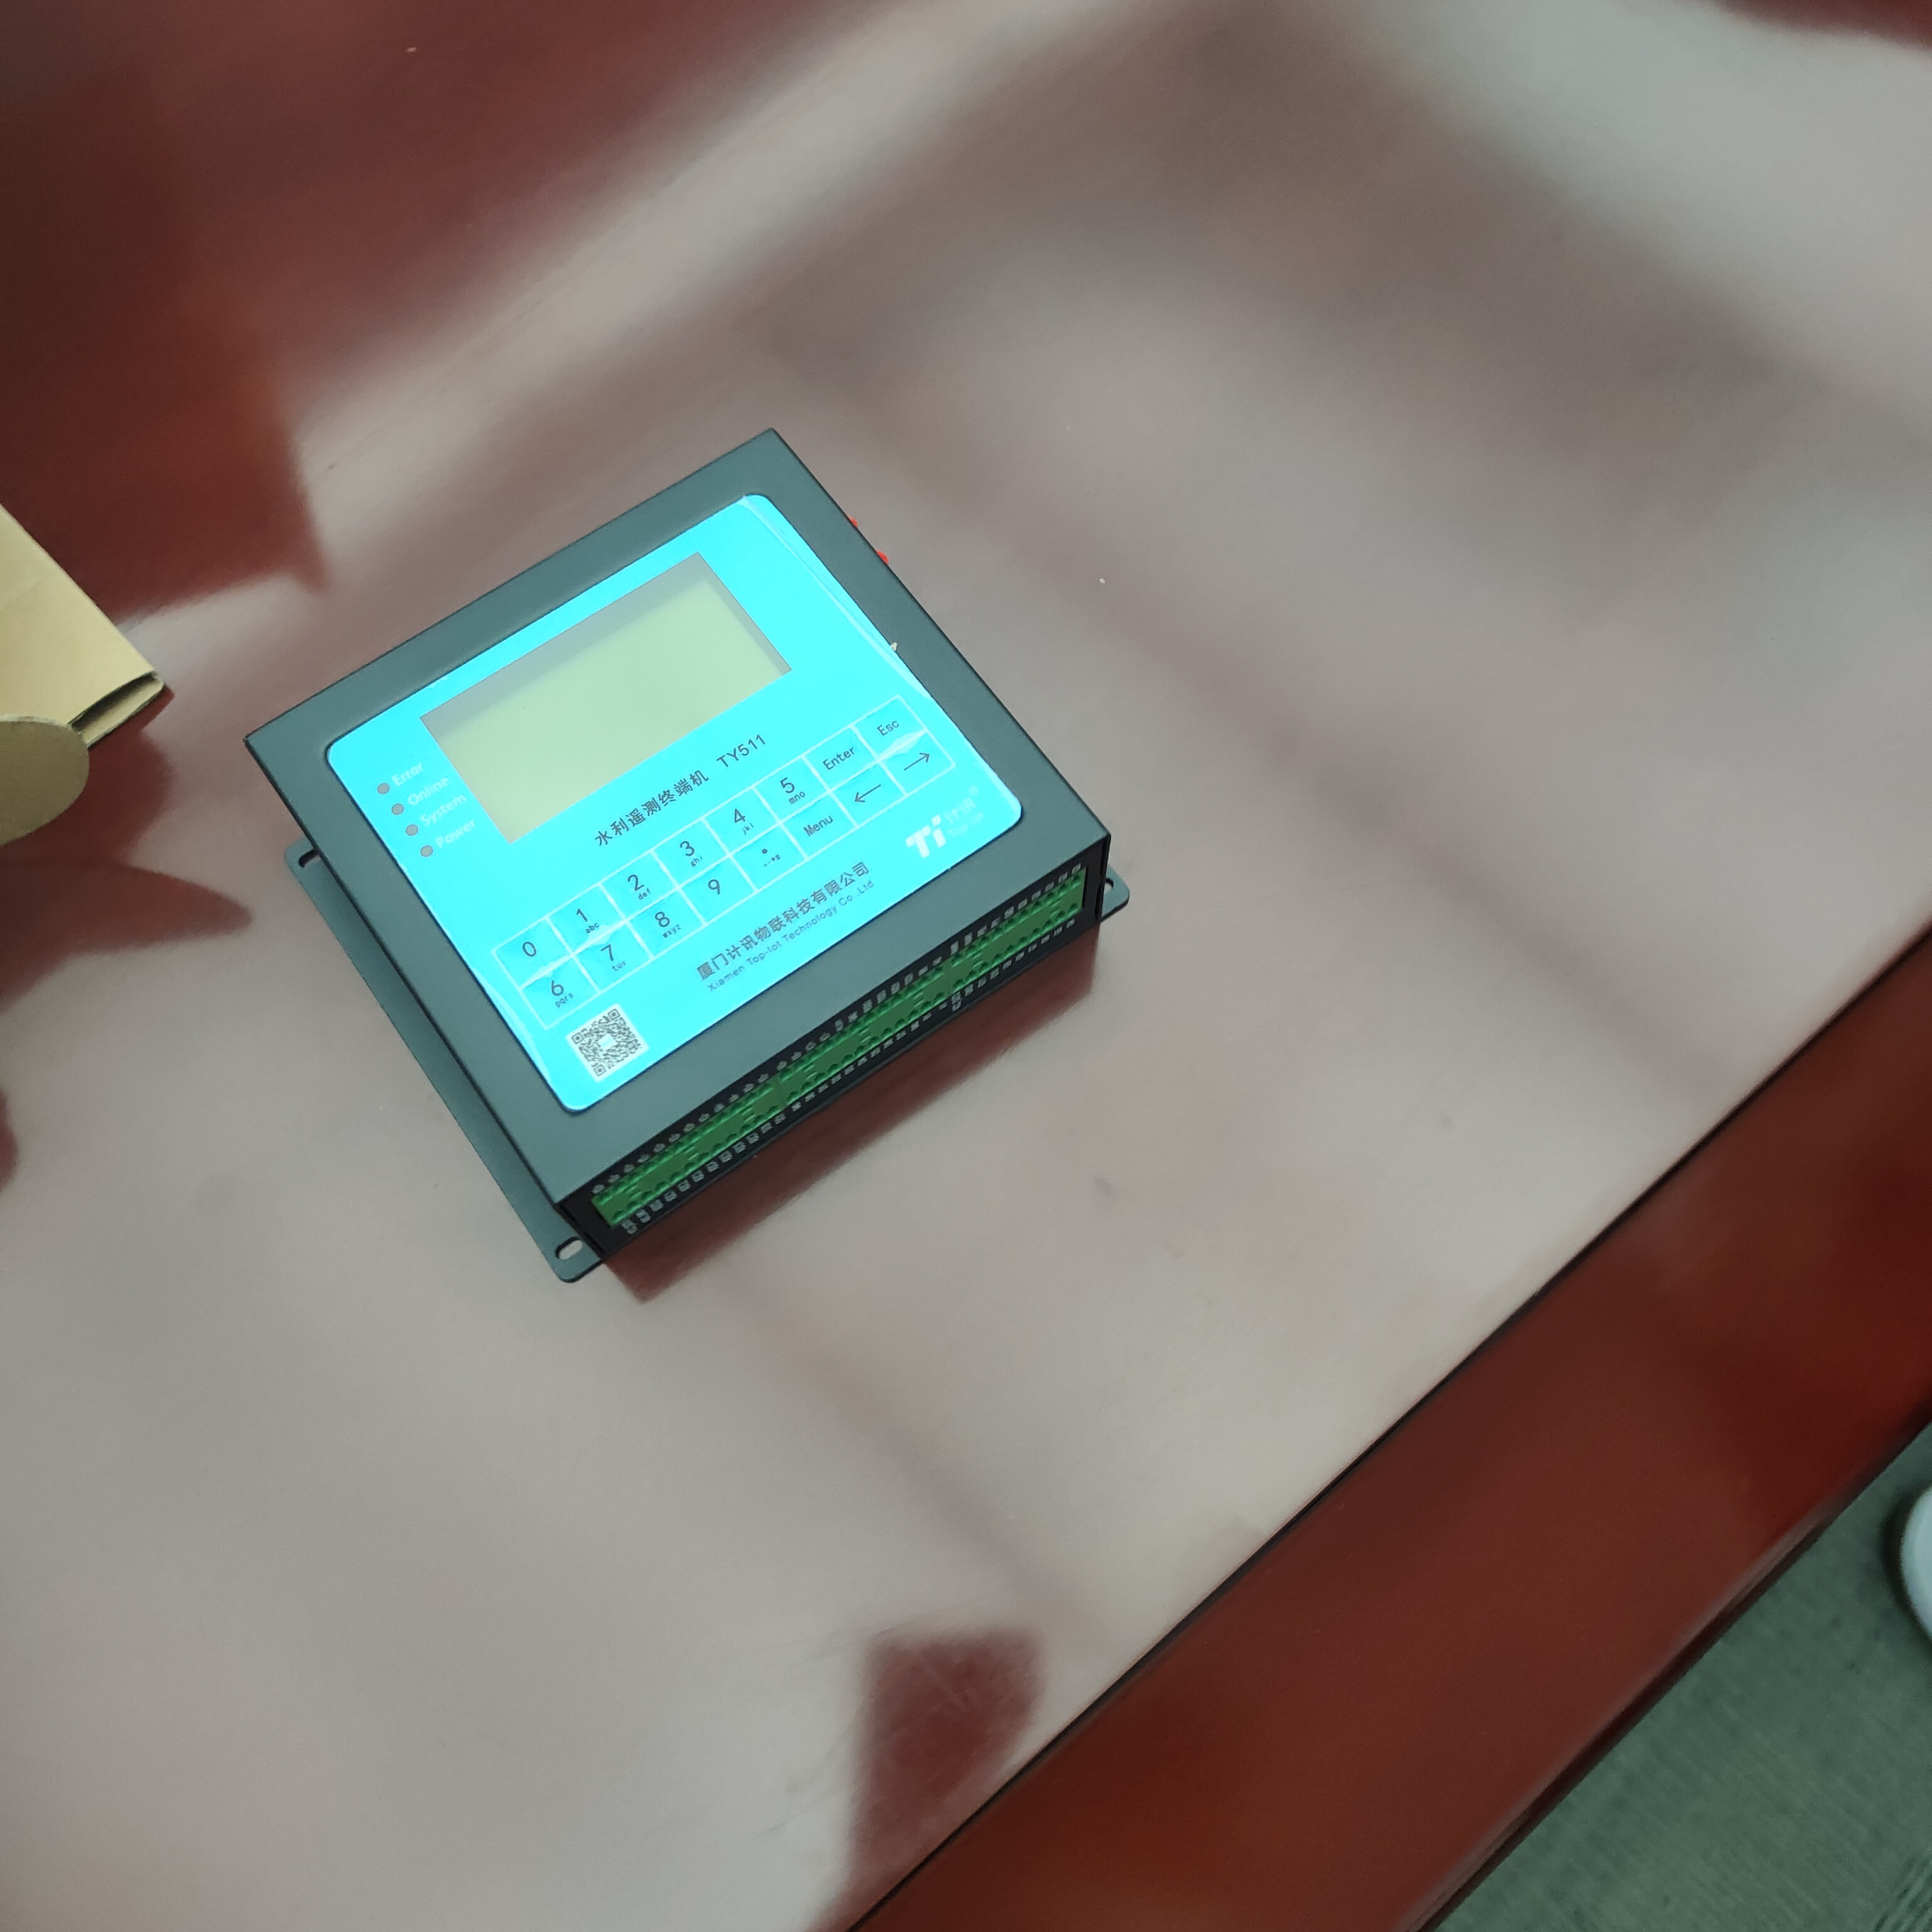slyczd: (248, 428, 1138, 1302)
